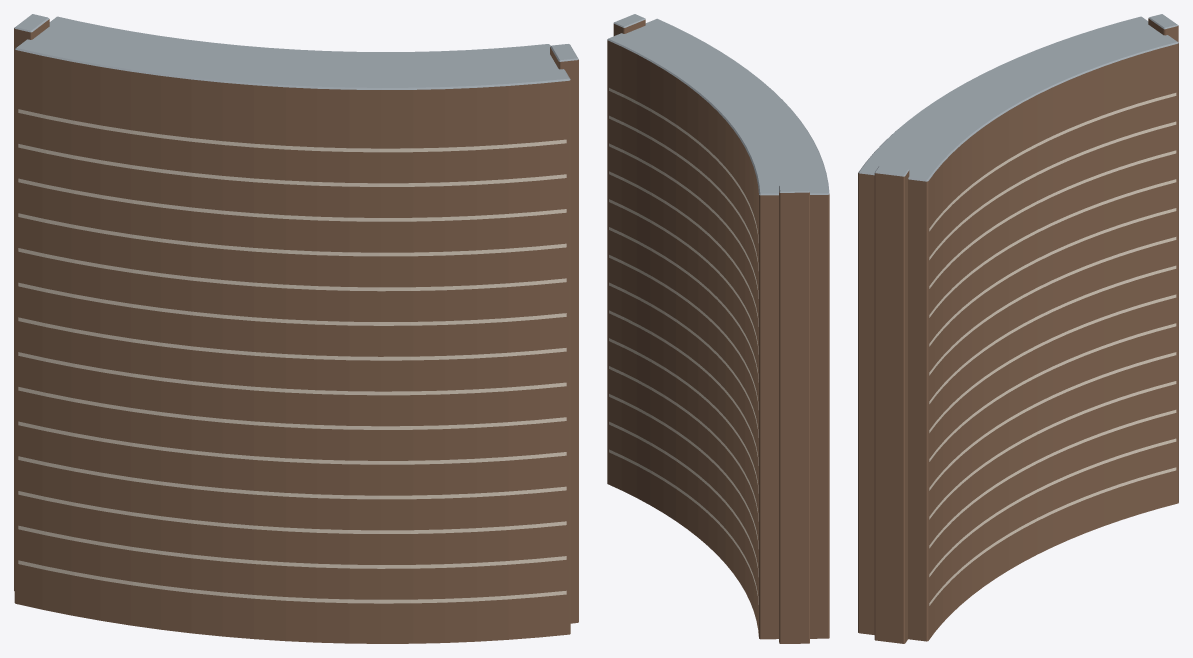
File: lv-encore.glb
The picture shows the model from 3 angles, left to right: view 1: azimuth 30°, elevation 25°; view 2: azimuth 150°, elevation 25°; view 3: azimuth 270°, elevation 25°; orthographic projection. The views are drawn at different scales.
Parts seen in each view (by area): view 1: Encore Las Vegas; view 2: Encore Las Vegas; view 3: Encore Las Vegas.
Part boxes in pixels (x1,y1,x2,y2): Encore Las Vegas: (14, 14, 578, 643); Encore Las Vegas: (607, 14, 829, 643); Encore Las Vegas: (858, 14, 1178, 643).
Bounding box in the file's own units: 149 × 195 × 121.
